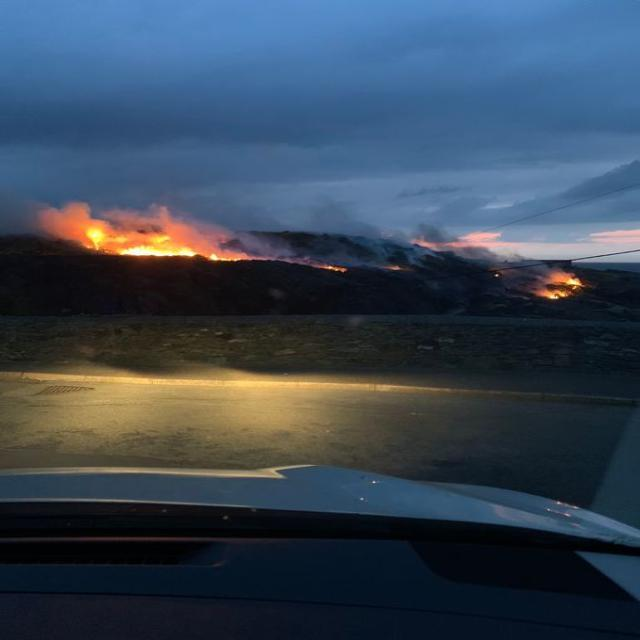Fire: (81, 225, 196, 258), (552, 271, 586, 288), (533, 288, 571, 300), (210, 250, 248, 262)
Smoke: (25, 196, 443, 268), (422, 228, 588, 303)
